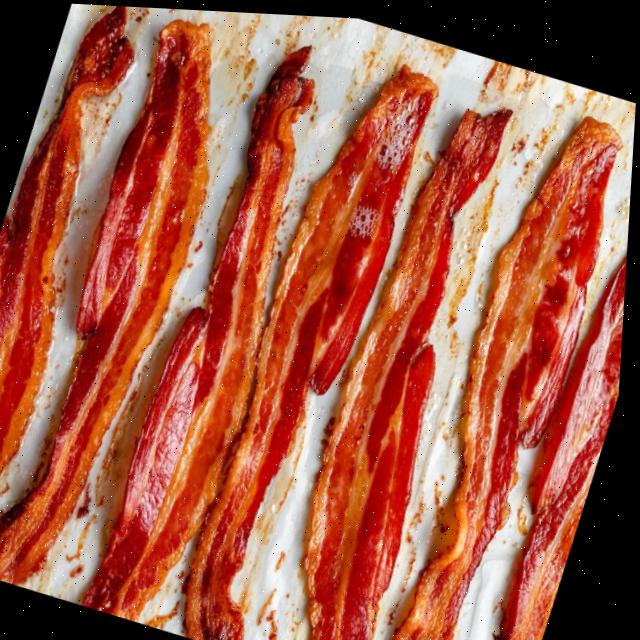Bacon: (191, 61, 437, 640), (90, 43, 314, 618), (0, 18, 210, 583), (398, 109, 621, 640), (310, 104, 511, 640), (0, 5, 133, 478), (505, 247, 630, 640)
